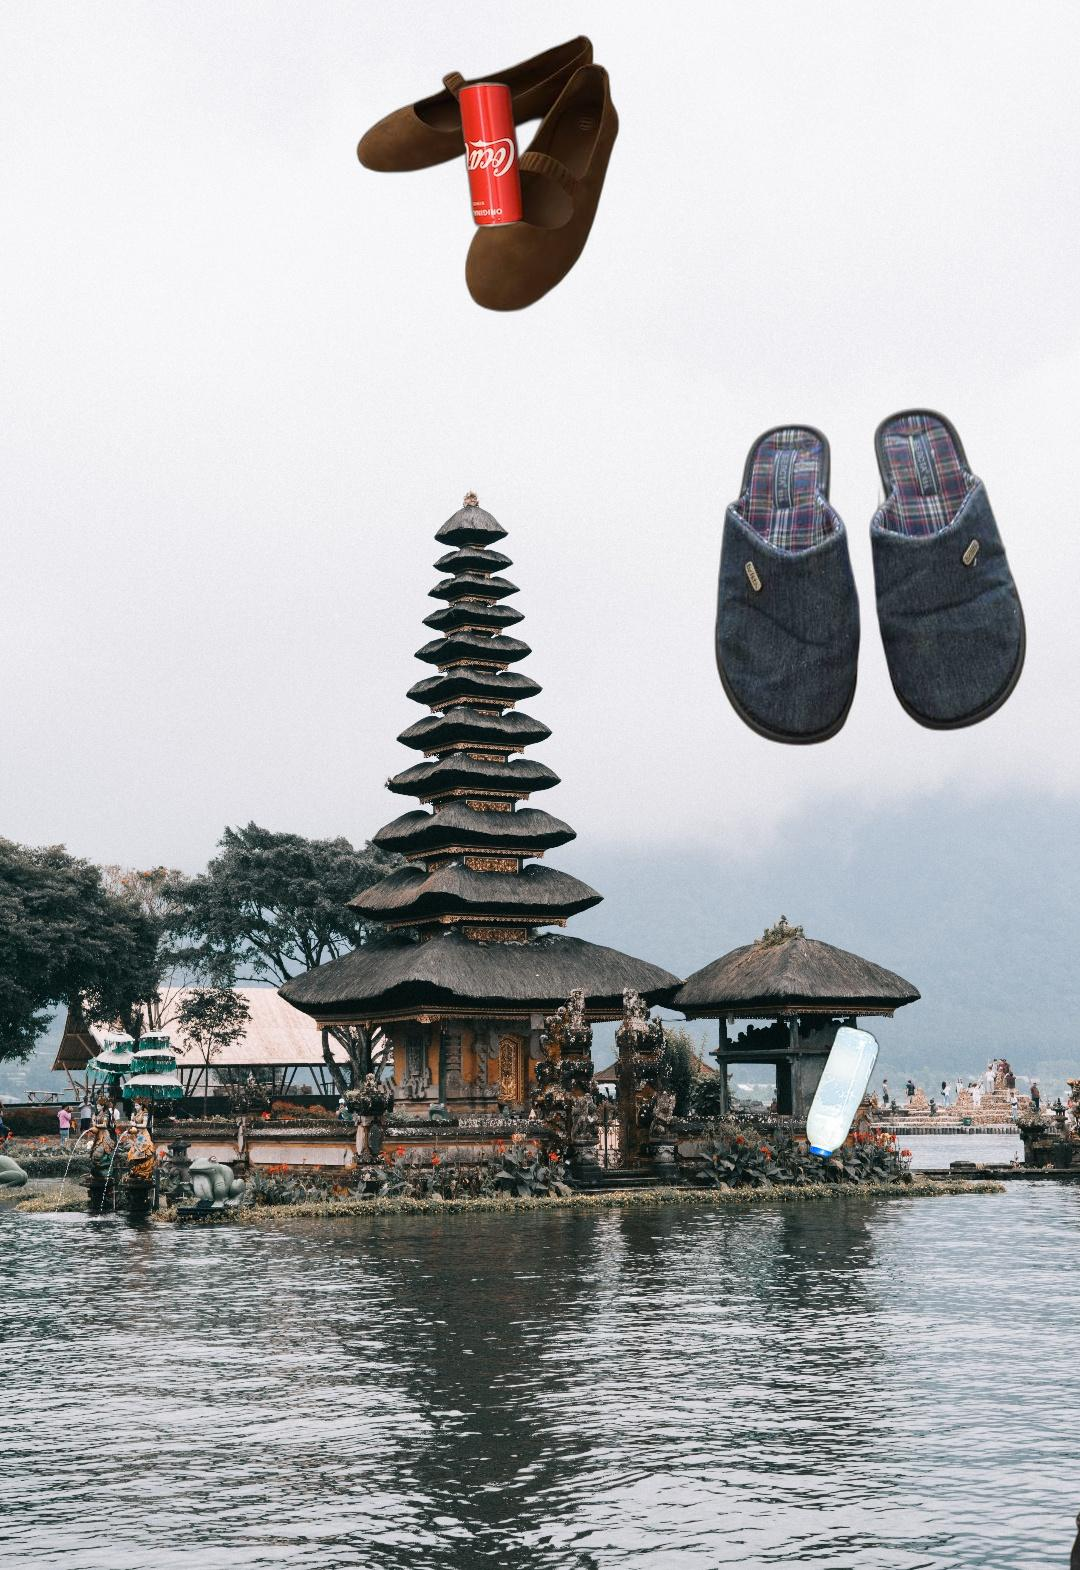metal-cans: (453, 75, 527, 234)
plastic-bag: (1063, 1464, 1080, 1570)
plastic-bottles: (801, 1020, 883, 1164)
shoes: (712, 404, 1030, 749), (354, 30, 622, 317)
